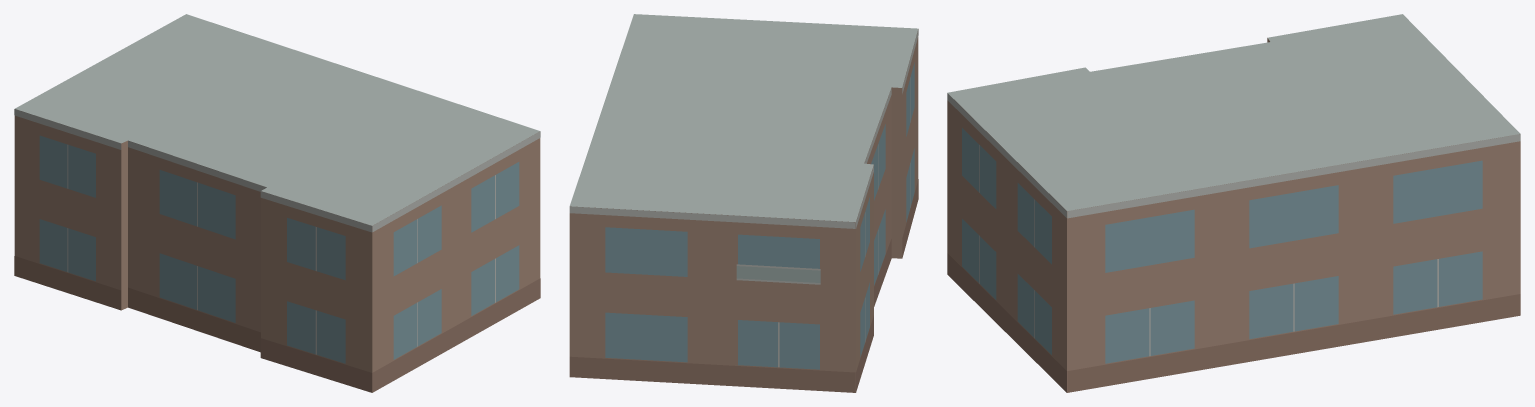
The model's file is survey-upis-32750238.glb.
3 renders of one model, left to right at view 1: azimuth 30°, elevation 25°; view 2: azimuth 150°, elevation 25°; view 3: azimuth 270°, elevation 25°, orthographic. The views are drawn at different scales.
Parts seen in each view (by area): view 1: survey-upis-32750238.tmp; view 2: survey-upis-32750238.tmp; view 3: survey-upis-32750238.tmp.
Boxes of the visible parts, x1,y1,x2,y2 form: survey-upis-32750238.tmp: [14, 14, 540, 392]; survey-upis-32750238.tmp: [569, 14, 918, 392]; survey-upis-32750238.tmp: [947, 14, 1520, 392].
Bounding box in the file's own units: 14.21 × 6.1 × 17.46.
